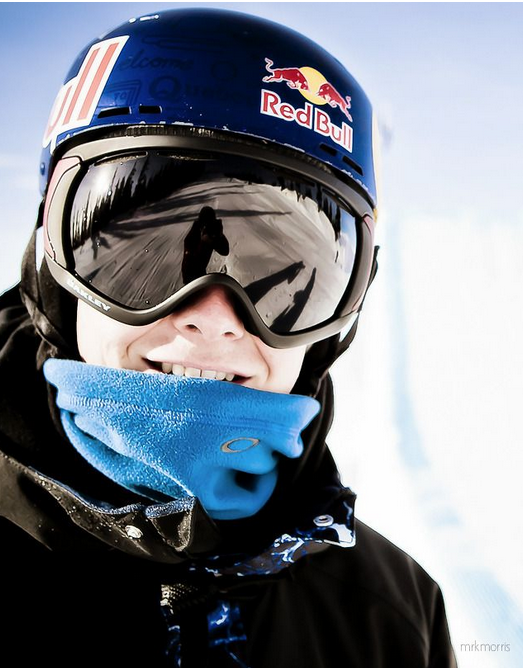with_incorrect_mask: (28, 8, 360, 502)
